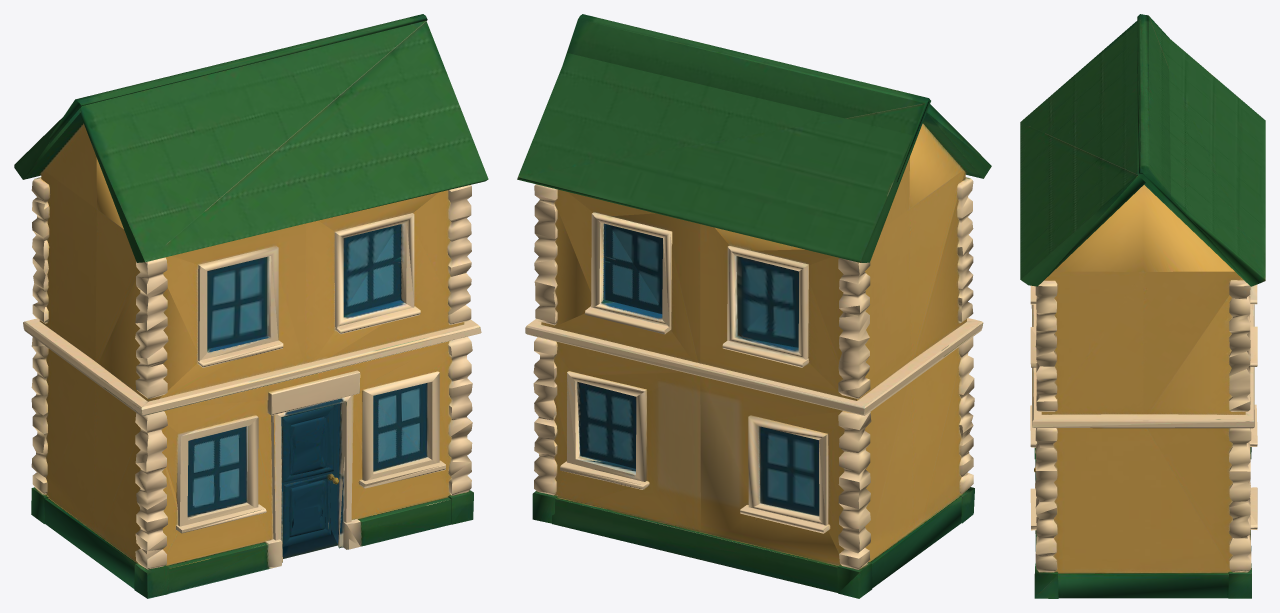
File: detailed-house-d.glb
3 views of the same model, side by side, from view 1: azimuth 30°, elevation 25°; view 2: azimuth 150°, elevation 25°; view 3: azimuth 270°, elevation 25° (orthographic). The views are drawn at different scales.
Bounding box in the file's own units: 0.7891 × 1 × 0.5156.
Materials: 1 (1 with a texture image).
